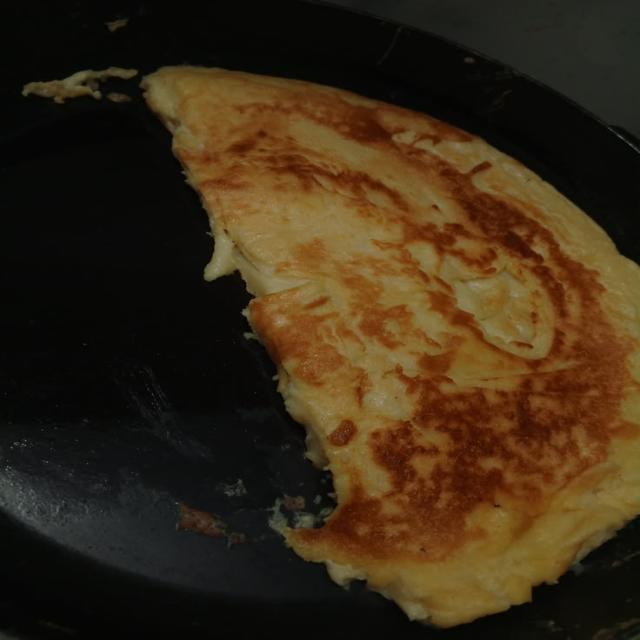omelette: (143, 67, 639, 626)
